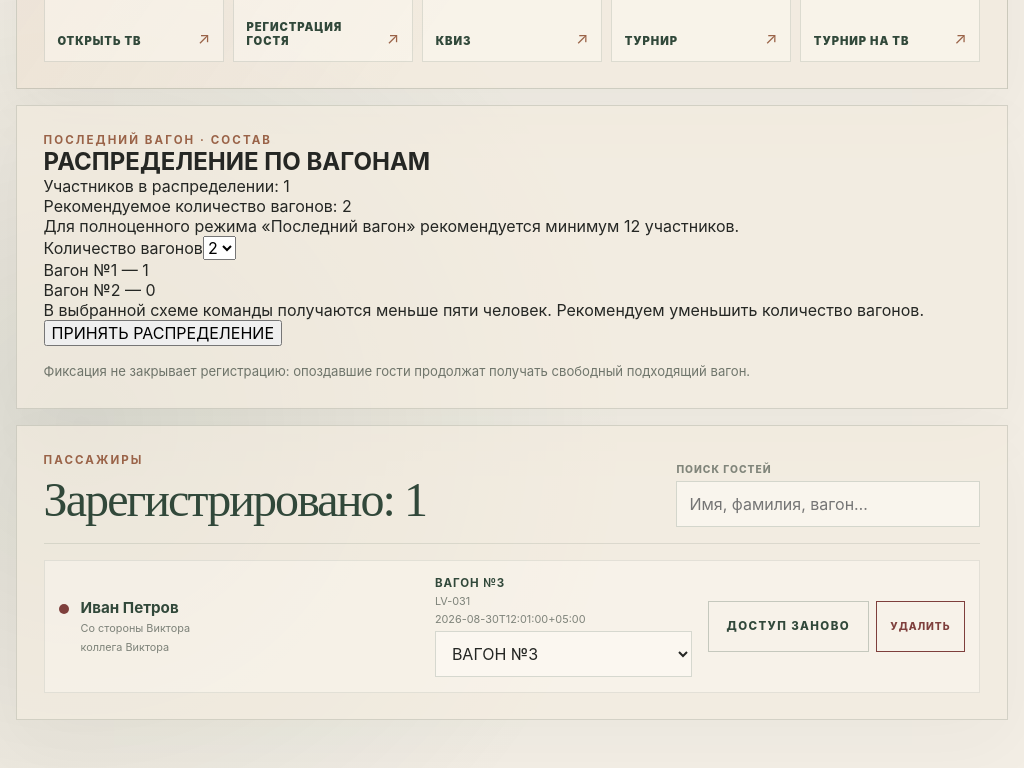
Test: AdminShell › issues a recovery code from the real owner guest list
(page scrolled)
Expected: the heading "Иван Петров" is shown, [81,598,179,617]
Click the button with aria-label "ВЫДАТЬ ДОСТУП ЗАНОВО Иван Петров".
click(788, 626)  # box [708,601,869,652]
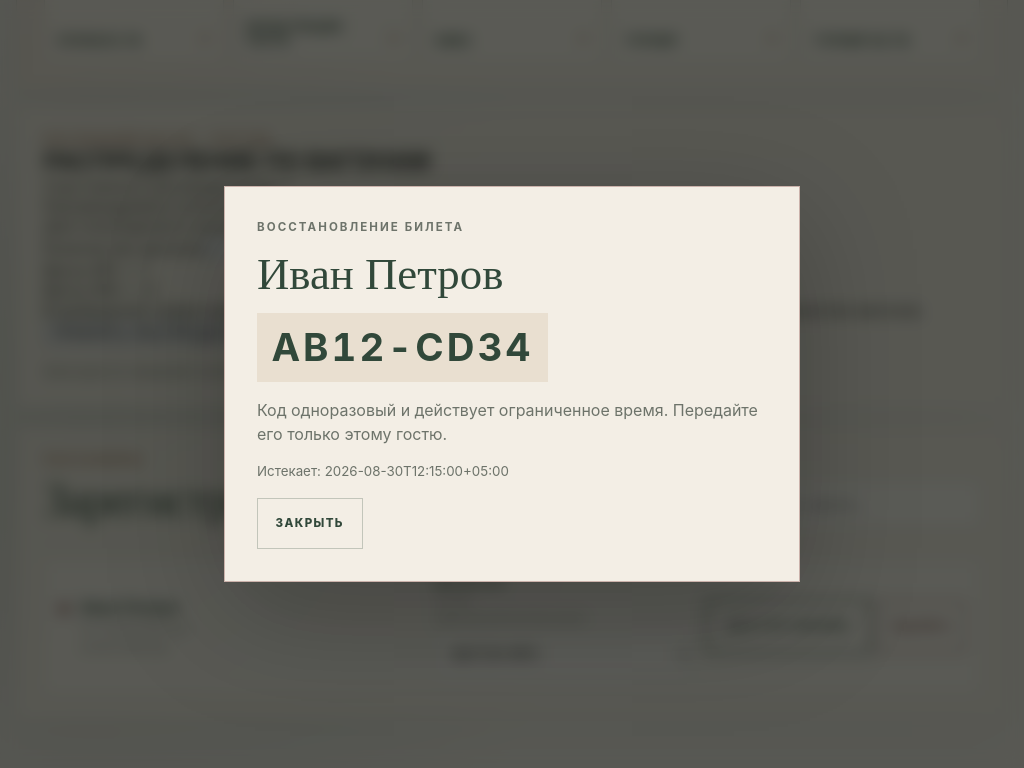
Expected: the text "AB12-CD34" is shown, [257,313,548,382]
